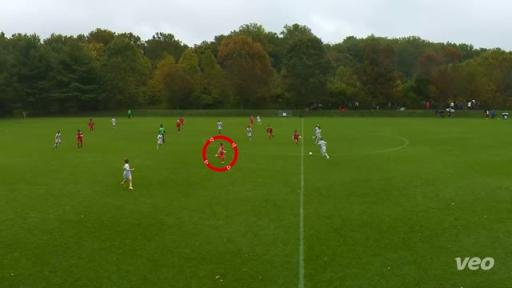highlight_overlay: (202, 136, 239, 173)
